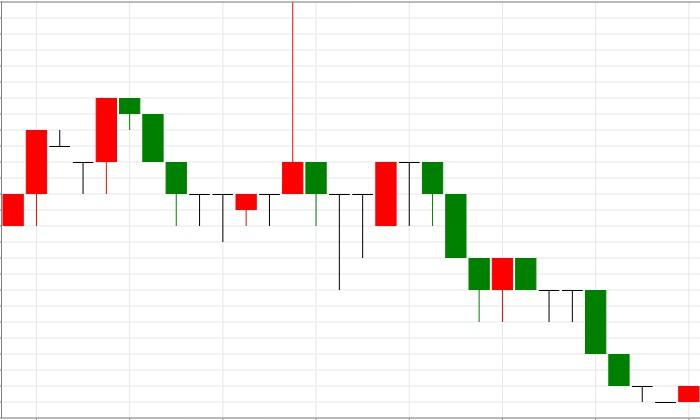evening_star_fall: (329, 161, 444, 291)
three_black_crows_fall: (71, 98, 188, 226)
